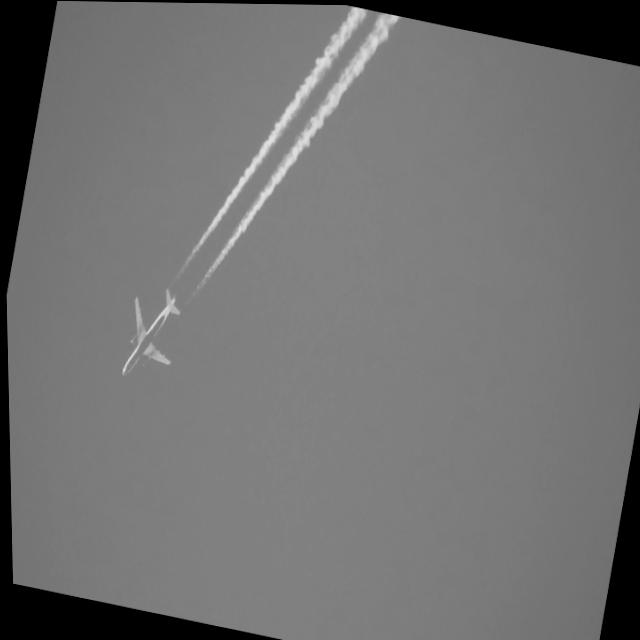aeroplane: (114, 281, 182, 389)
